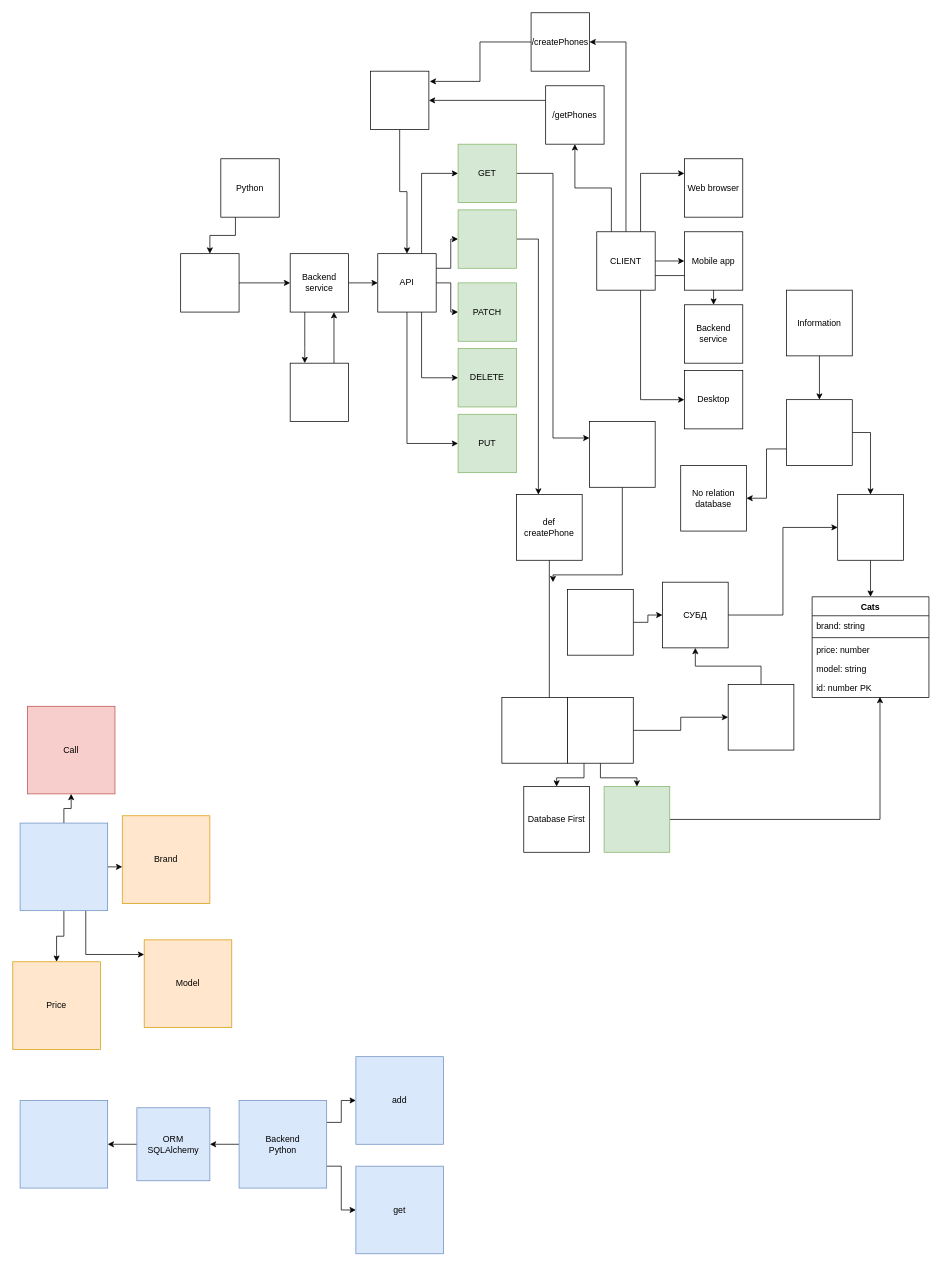
Image size: 942x1267. Some labels were removed from this diagram. The shapes that lost their labels are listed below. From the top down, each one's centre as x and y in pixels, then its label:
(399,100): Routes
(486,238): POST
(209,282): Framework Flask
(319,392): Database
(819,432): Knowledge
(622,454): def getPhone
(870,527): Relation databases
(600,622): Приложений
(534,730): SQLAlchemy
(600,730): ORM
(760,717): SQL requests
(636,819): Code First
(63,866): Phone
(63,1144): Database Postgres
